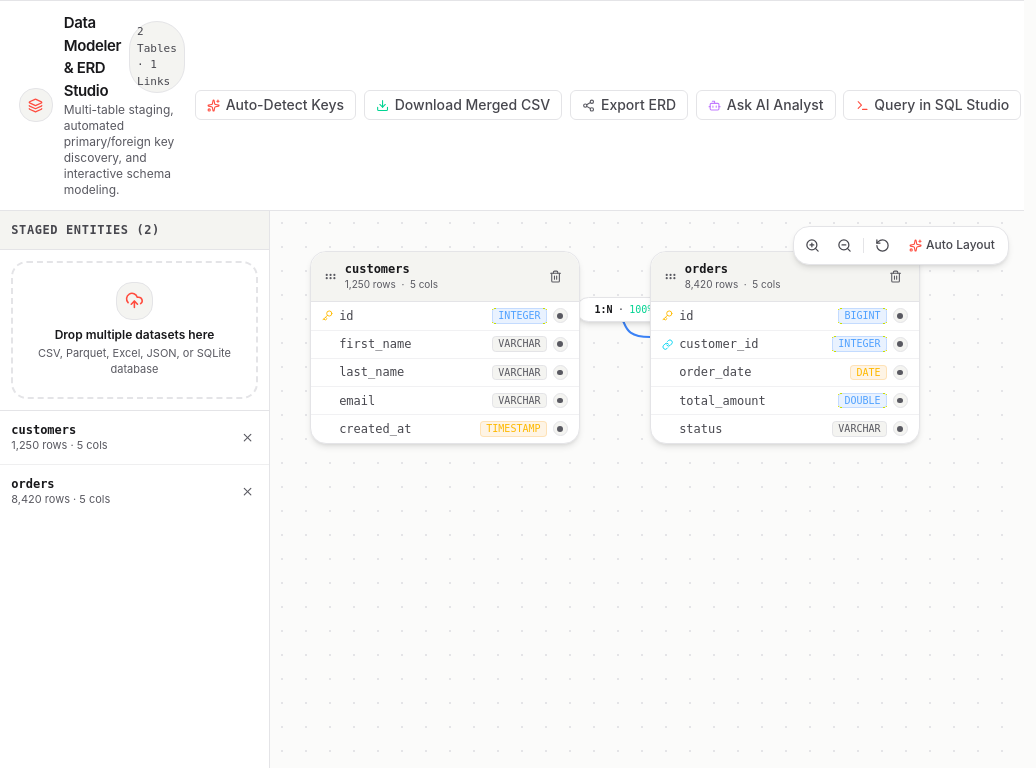
Scenario: Model Data (ERD) Studio - Comprehensive Production Test Suite › Scenario 3: Canvas Interactions & State Management › allows deleting an entity table and synchronizes session state
Expected: the text "customers" below "Drop multiple datasets here" is shown, left=11, top=423, right=76, bottom=437
# Click delete table button on customers
Click the 1st button titled "Remove table": x=247, y=437 left=237, top=427, right=258, bottom=448
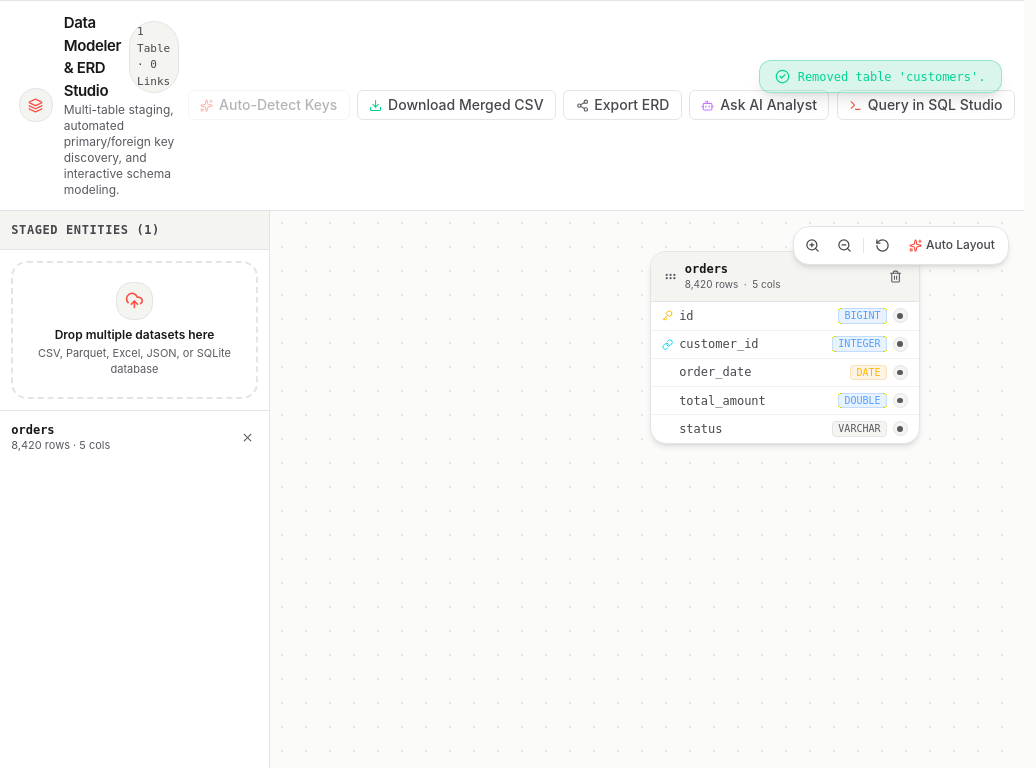
Expected: the text "Removed table 'customers'." is shown, left=798, top=68, right=986, bottom=84
